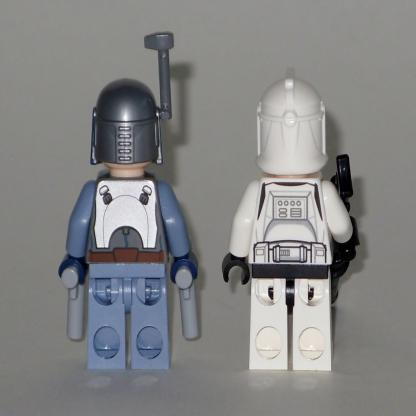Helmet: (92, 30, 173, 164), (255, 67, 328, 177)
